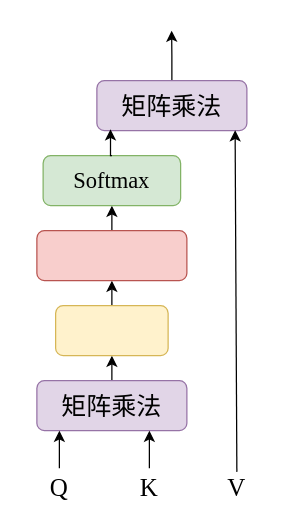
Image size: 295x528. Some labels were removed from this diagram. Here are the shapes that lost their labels. From the top down, the centre of each, then its label:
the point at 111,255: 掩码（可选）
the point at 111,330: 缩放
